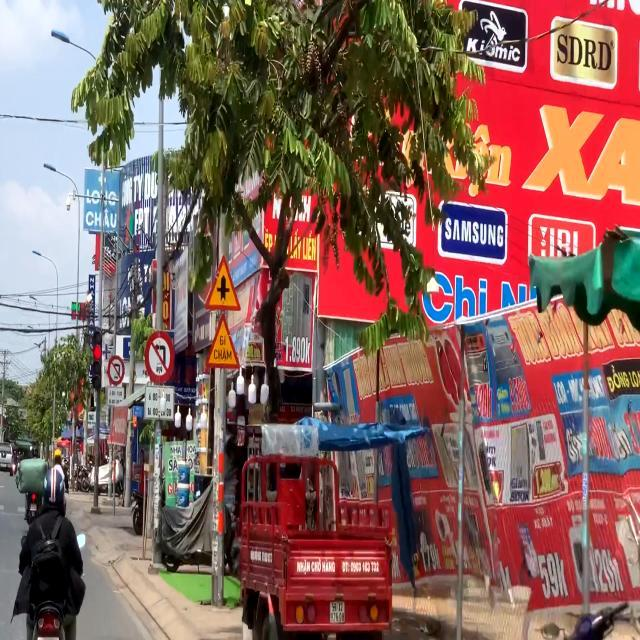Di cham: (206, 312, 240, 370)
Giao nhau voi duong khong uu tien: (204, 254, 242, 311)
